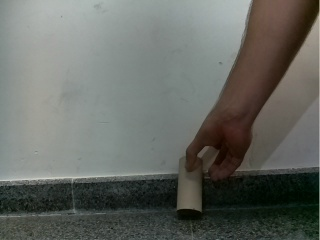rollo papel: (177, 156, 204, 218)
